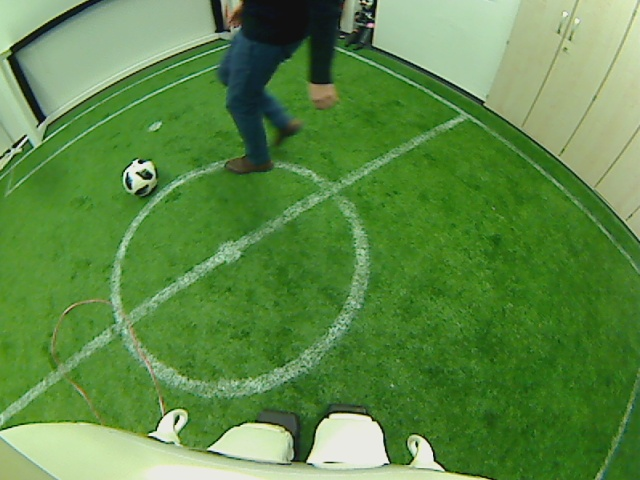ball: (121, 157, 158, 197)
